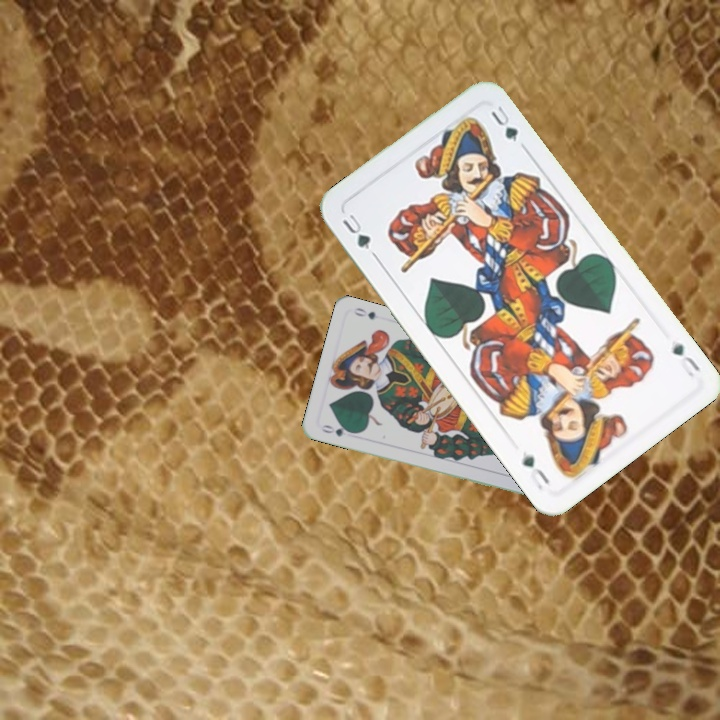GO: (317, 420, 357, 439)
GU: (338, 209, 379, 260), (668, 338, 703, 380)
